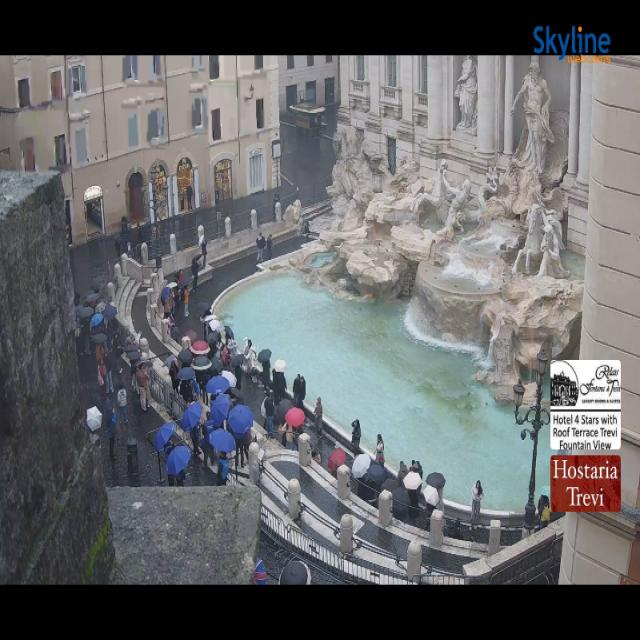person: (103, 399, 116, 463), (204, 412, 214, 465), (472, 480, 483, 528), (136, 364, 147, 411), (243, 339, 257, 375), (272, 370, 286, 404), (104, 350, 114, 394), (264, 392, 274, 434), (117, 385, 128, 423), (351, 419, 362, 454), (196, 371, 208, 403), (113, 332, 122, 374), (81, 318, 91, 355), (217, 452, 228, 485), (169, 359, 180, 392), (220, 340, 232, 369), (314, 397, 323, 435), (99, 360, 107, 402), (540, 496, 550, 529), (190, 424, 200, 456), (172, 286, 183, 315), (292, 373, 301, 408), (143, 366, 151, 405), (256, 232, 266, 263), (408, 490, 419, 517), (244, 429, 253, 462), (191, 256, 199, 293), (234, 436, 243, 468), (188, 378, 200, 402), (130, 360, 139, 392), (284, 423, 294, 450), (375, 435, 384, 465), (262, 360, 271, 388), (179, 382, 191, 403), (398, 462, 408, 487), (200, 236, 207, 268), (298, 377, 305, 409), (411, 460, 423, 478), (227, 338, 238, 357), (164, 440, 175, 459), (234, 365, 242, 390), (272, 193, 279, 221), (169, 289, 175, 319), (164, 293, 171, 318), (96, 344, 104, 365), (114, 235, 121, 258), (186, 184, 192, 210), (301, 222, 310, 239), (266, 235, 272, 259), (176, 470, 185, 485), (312, 450, 321, 464), (137, 224, 143, 244), (184, 289, 188, 317), (416, 462, 423, 478)
